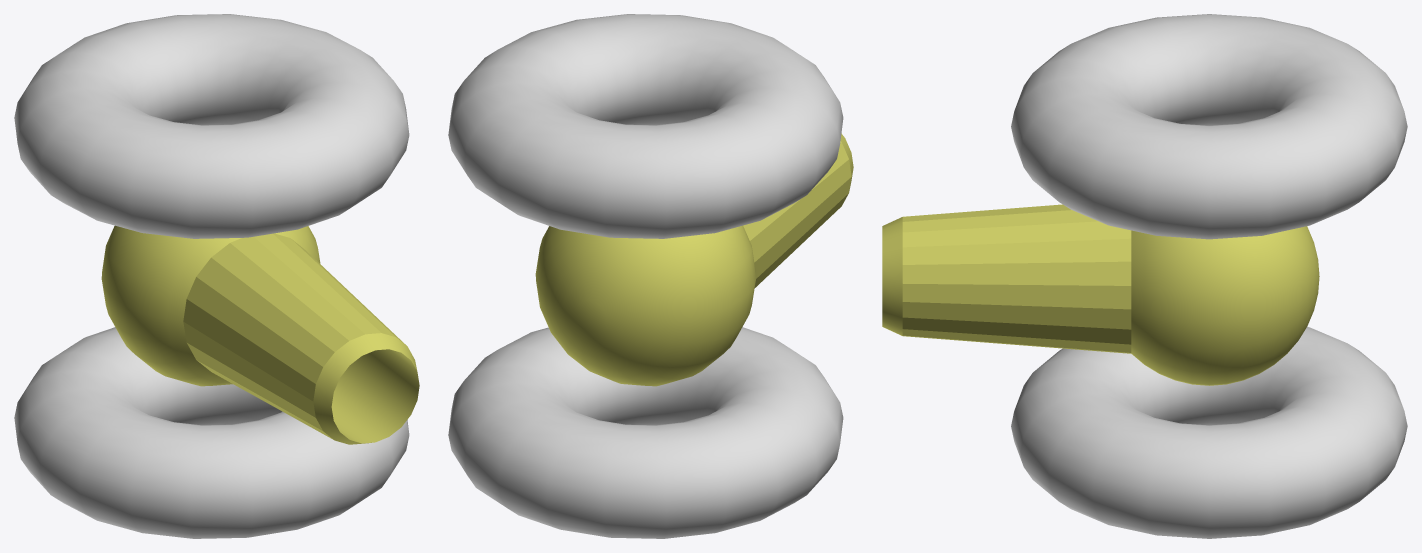
The model's file is Sniper.fbx.
The picture shows the model from 3 angles, left to right: view 1: azimuth 30°, elevation 25°; view 2: azimuth 150°, elevation 25°; view 3: azimuth 270°, elevation 25°; orthographic projection.
Parts seen in each view (by area): view 1: pTorus2, pTorus1, pSphere1; view 2: pTorus2, pTorus1, pSphere1; view 3: pTorus2, pTorus1, pSphere1.
Boxes of the visible parts, box(x1,y1,x2,y2) form: pTorus2: box(14, 14, 409, 238); pTorus1: box(14, 327, 409, 538); pSphere1: box(101, 225, 419, 444); pTorus2: box(448, 14, 843, 238); pTorus1: box(448, 327, 843, 538); pSphere1: box(535, 133, 853, 386); pTorus2: box(1011, 14, 1407, 239); pTorus1: box(1011, 327, 1407, 538); pSphere1: box(882, 204, 1319, 385).
Bounding box in the file's own units: 3.6 × 4 × 4.77.
